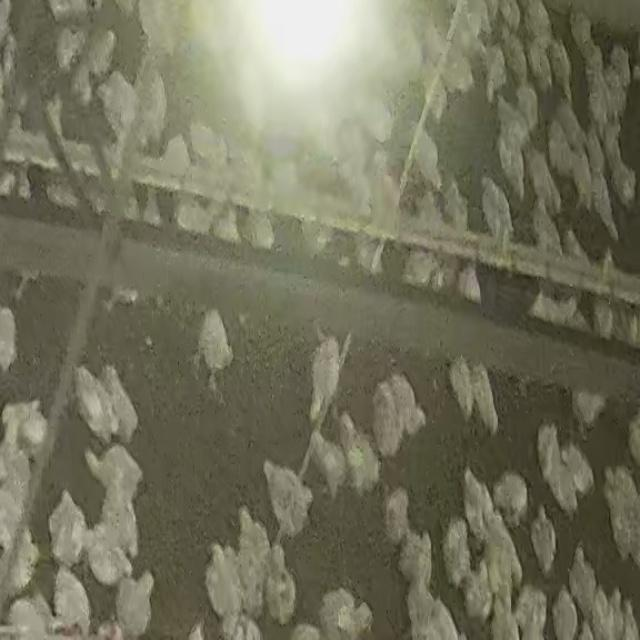chicken: (82, 490, 144, 581), (94, 68, 144, 161), (492, 93, 534, 201), (84, 444, 145, 516), (262, 460, 314, 540), (1, 447, 36, 559), (538, 426, 582, 515), (476, 506, 522, 590), (202, 541, 249, 621), (1, 114, 62, 174), (602, 466, 640, 562), (132, 58, 170, 154), (522, 129, 564, 212), (403, 578, 462, 636), (100, 362, 142, 443), (305, 332, 343, 421), (187, 311, 230, 383), (75, 369, 118, 441), (306, 428, 348, 500), (460, 466, 498, 544), (48, 491, 88, 565), (584, 160, 620, 242), (141, 129, 191, 187), (343, 425, 383, 495), (52, 565, 94, 631), (263, 548, 299, 624), (546, 114, 584, 186), (114, 568, 155, 634), (585, 50, 618, 132), (236, 509, 273, 582), (389, 372, 424, 448), (371, 378, 405, 456), (317, 588, 372, 636), (407, 123, 444, 194), (477, 176, 515, 244), (395, 523, 433, 590), (468, 364, 502, 438), (568, 548, 600, 620), (79, 25, 118, 84), (187, 117, 229, 170), (604, 43, 634, 116), (506, 81, 540, 144), (6, 594, 53, 639), (447, 356, 477, 424), (528, 508, 558, 574), (528, 290, 580, 327), (402, 244, 443, 290), (443, 518, 473, 580), (384, 486, 414, 545), (237, 206, 275, 252), (54, 24, 88, 75), (514, 586, 548, 636), (495, 475, 526, 526), (571, 388, 608, 428), (461, 573, 491, 620), (551, 586, 579, 636), (565, 446, 594, 492), (0, 304, 19, 374), (84, 446, 114, 488), (614, 163, 640, 208), (457, 264, 484, 304)
